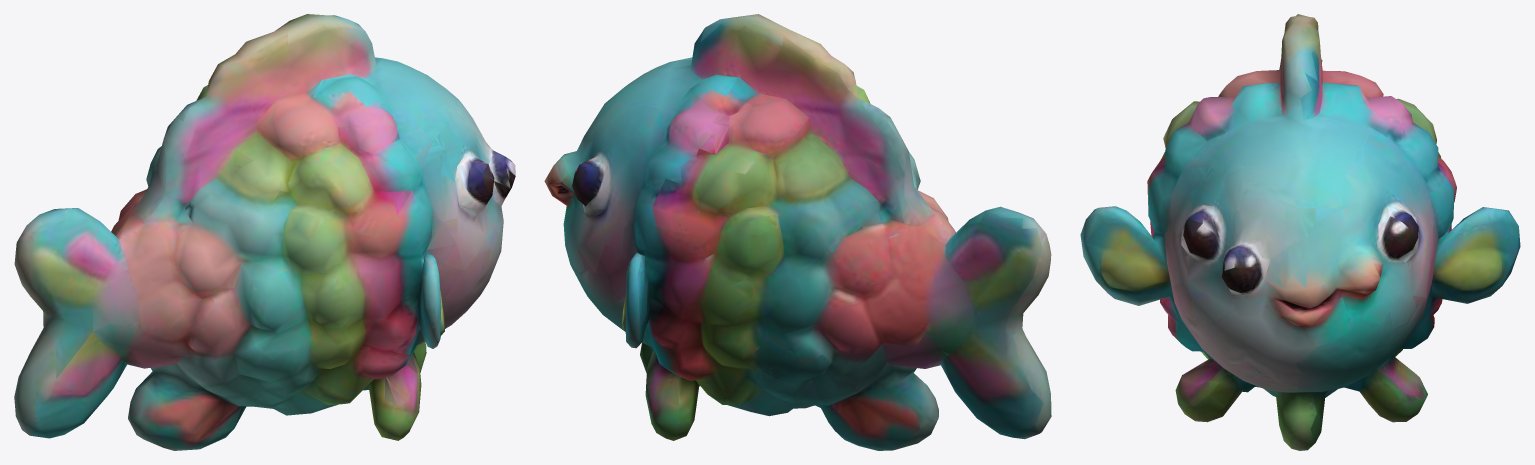
File: parrotfish.glb
3 views of the same model, side by side, from view 1: azimuth 30°, elevation 25°; view 2: azimuth 150°, elevation 25°; view 3: azimuth 270°, elevation 25° (orthographic). The views are drawn at different scales.
Parts seen in each view (by area): view 1: low; view 2: low; view 3: low.
Boxes of the visible parts, bbox=[...] form: low: bbox=[14, 14, 515, 450]; low: bbox=[544, 14, 1051, 450]; low: bbox=[1080, 14, 1520, 450].
Size of the model in its own units: 2.48 by 2 by 2.07.
1 material, 1 textured.
